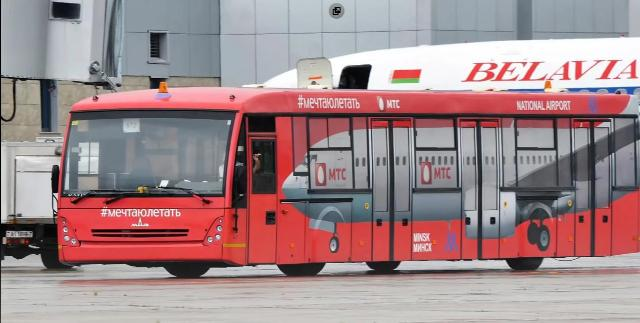bus: (49, 73, 640, 286)
